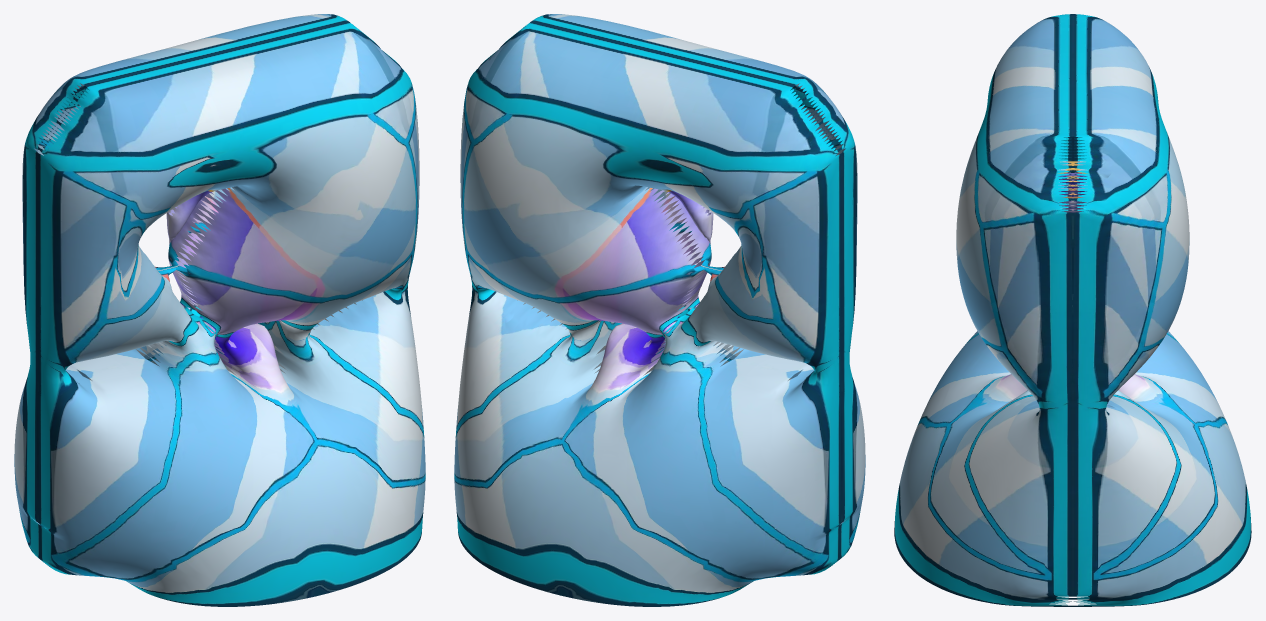
The model's file is crystal_crate.glb.
The picture shows the model from 3 angles, left to right: view 1: azimuth 30°, elevation 25°; view 2: azimuth 150°, elevation 25°; view 3: azimuth 270°, elevation 25°; orthographic projection. The views are drawn at different scales.
Visible parts, largest first — view 1: crystal_crate; view 2: crystal_crate; view 3: crystal_crate.
Part boxes in pixels (x1,y1,x2,y2): crystal_crate: (14,14,425,606); crystal_crate: (454,14,865,606); crystal_crate: (894,14,1251,606).
Size of the model in its own units: 0.9863 by 1.24 by 0.8878.
1 material, 1 textured.
